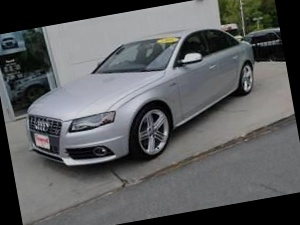car: (1, 10, 279, 201)
